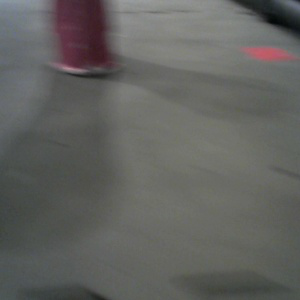right: (46, 1, 126, 77)
